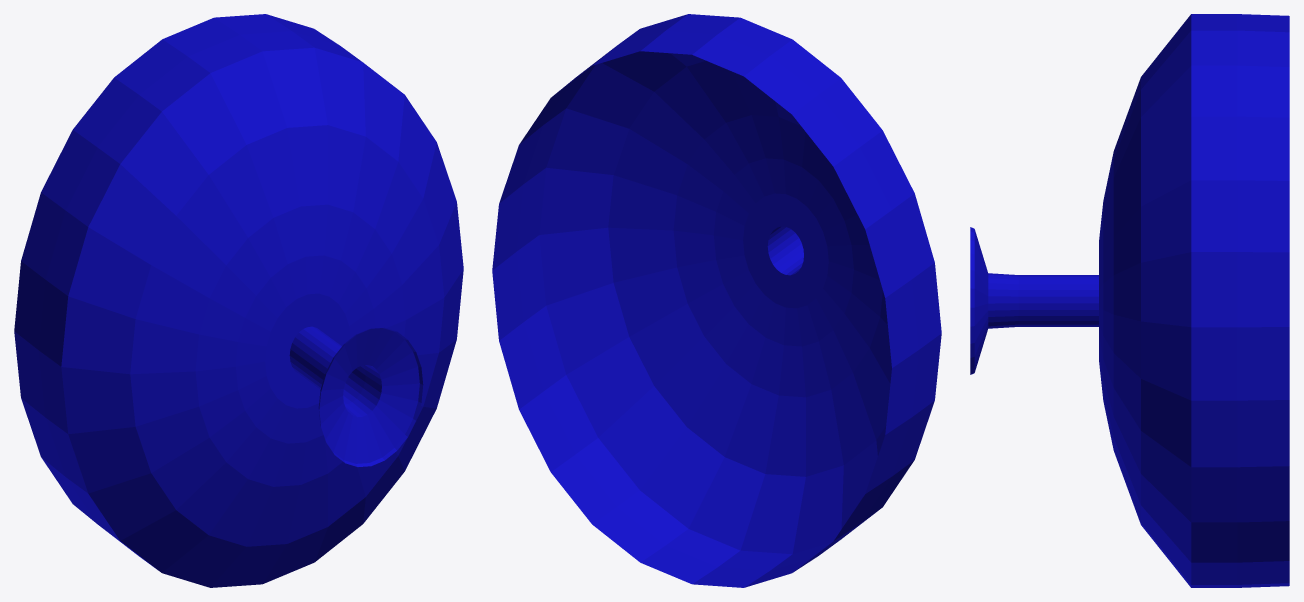
The model's file is cup.obj.
The picture shows the model from 3 angles, left to right: view 1: azimuth 30°, elevation 25°; view 2: azimuth 150°, elevation 25°; view 3: azimuth 270°, elevation 25°; orthographic projection.
Parts seen in each view (by area): view 1: Cube; view 2: Cube; view 3: Cube.
Boxes of the visible parts, bbox=[...] form: Cube: bbox=[14, 14, 463, 587]; Cube: bbox=[492, 14, 941, 587]; Cube: bbox=[970, 14, 1289, 587].
Size of the model in its own units: 4 by 5.06 by 2.71.
